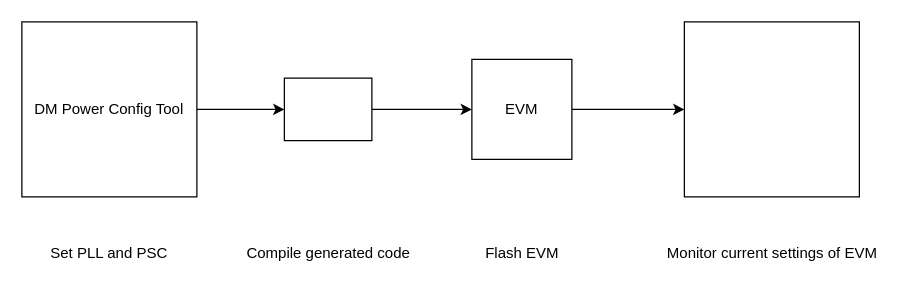
The diagram is 913 pixels wide and 294 high, and some of its shapes have lost their labels. The shapes that lost their labels are listed below. From the top down, each one's centre as x and y in pixels, then its label:
At pixel 327 109: "Code".
At pixel 771 109: "JTAG Power Analysis Tool".
